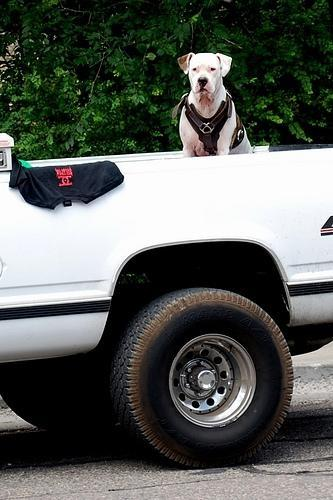truck: (0, 132, 333, 468)
